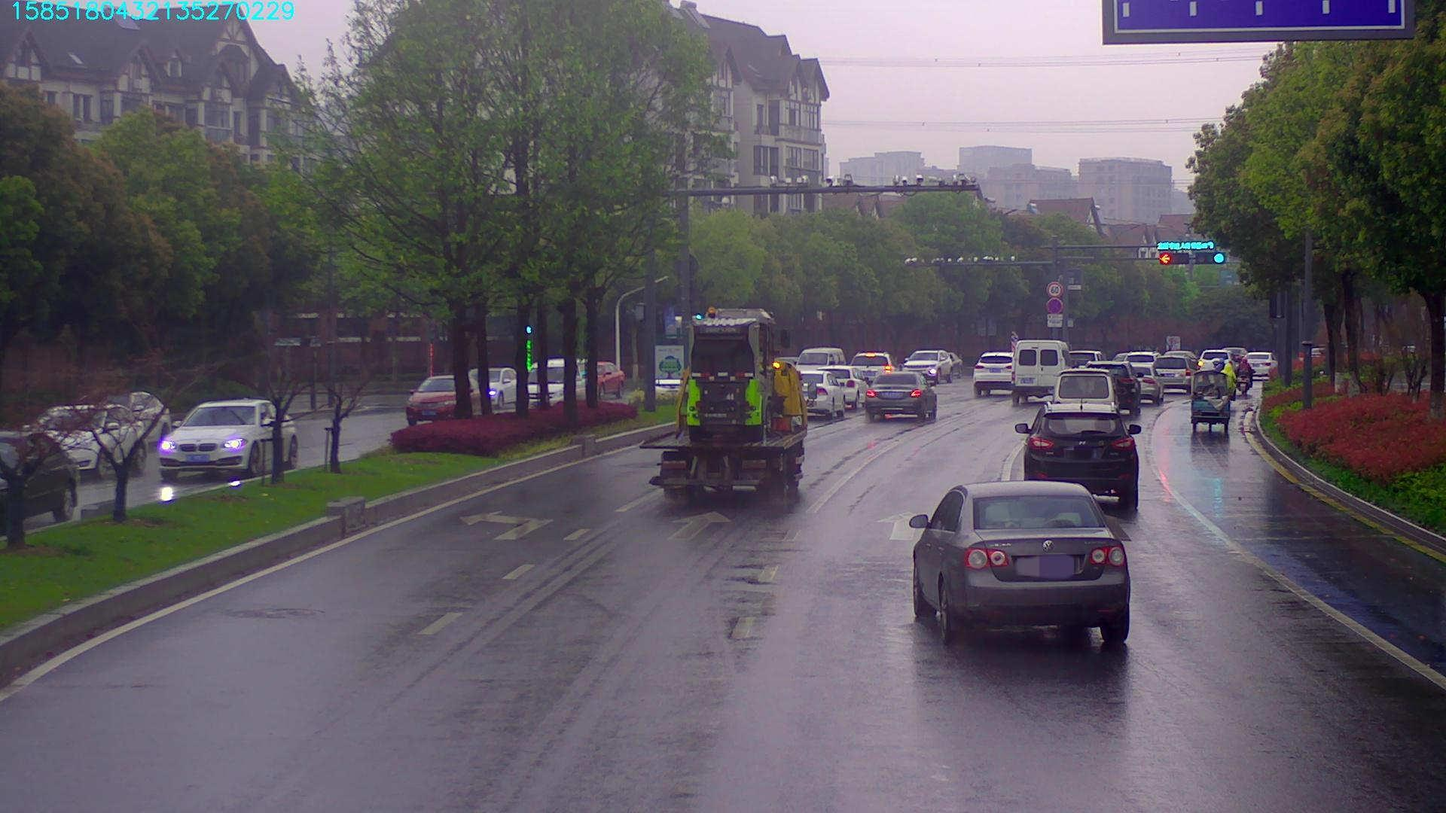green: (1191, 252, 1227, 264)
red: (1158, 250, 1189, 266)
wait_on: (1157, 237, 1218, 251)
